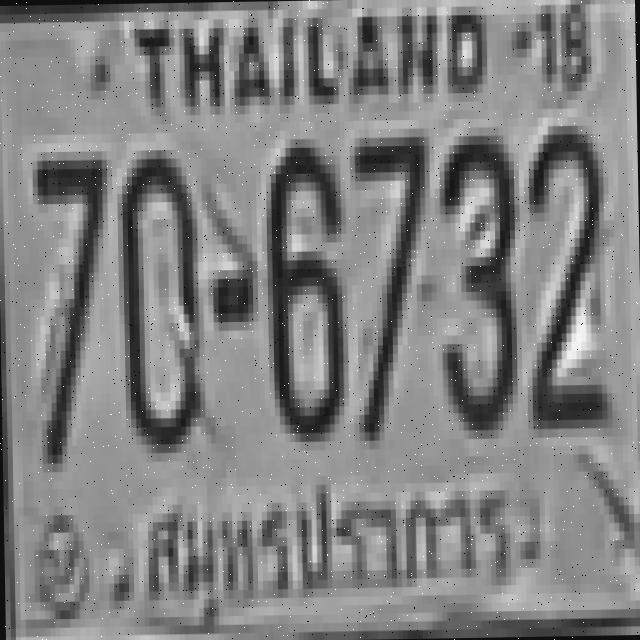0: (116, 140, 201, 444)
2: (522, 121, 602, 425)
3: (434, 127, 518, 430)
6: (262, 138, 342, 434)
7: (349, 128, 429, 432), (32, 150, 106, 464)
SamutPrakan: (140, 468, 522, 624)
